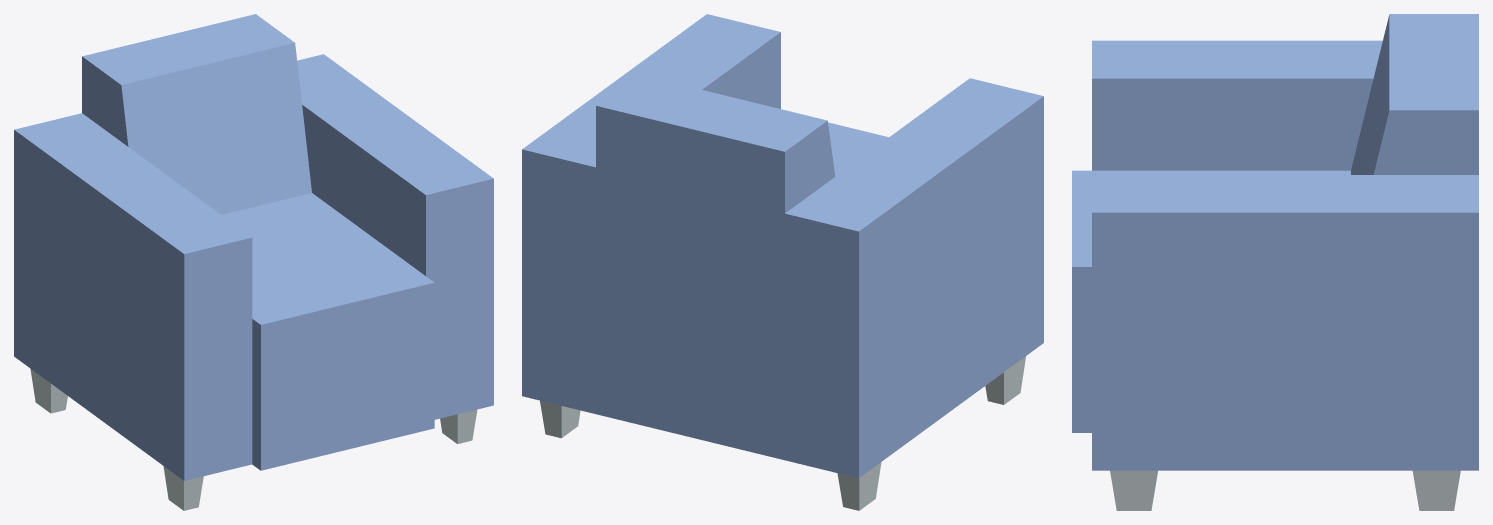
The model's file is kn-lounge-design-chair.glb.
3 renders of one model, left to right at view 1: azimuth 30°, elevation 25°; view 2: azimuth 150°, elevation 25°; view 3: azimuth 270°, elevation 25°, orthographic. The views are drawn at different scales.
Parts seen in each view (by area): view 1: loungeDesignChair(Clone); view 2: loungeDesignChair(Clone); view 3: loungeDesignChair(Clone).
Boxes of the visible parts, <box> form: loungeDesignChair(Clone): <box>14,14,493,510</box>; loungeDesignChair(Clone): <box>522,14,1043,510</box>; loungeDesignChair(Clone): <box>1072,14,1478,510</box>.
Size of the model in its own units: 1 by 1 by 1.
